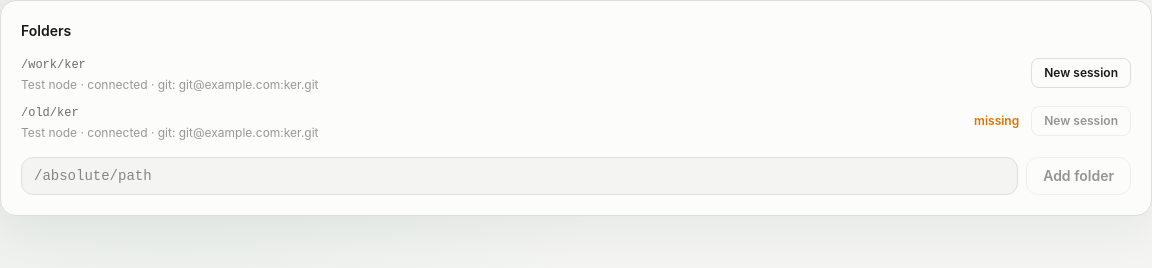
Scenario: folders list existing paths first and refreshes after adding one
Check: the text "/old/ker" is shown, box [21, 106, 79, 120]
Step 1. Type "/clone/ker" into the field named "Folder path" → (520, 176), box [21, 157, 1018, 195]
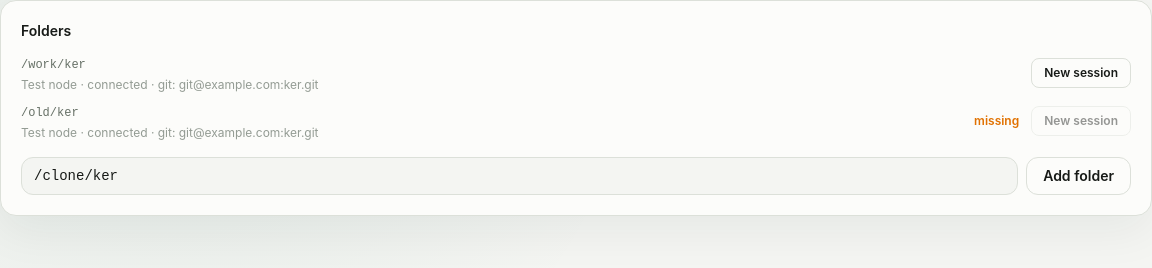
Step 2. Click the button "Add folder" → (1079, 176), box [1026, 157, 1131, 195]
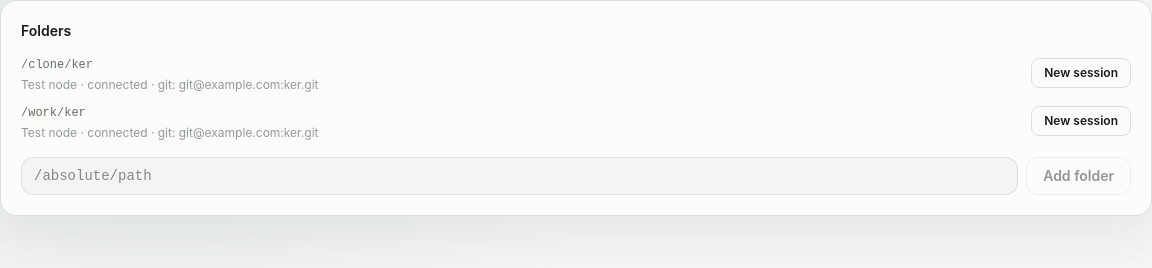
Check: the text "/clone/ker" is shown, box [21, 58, 93, 72]
